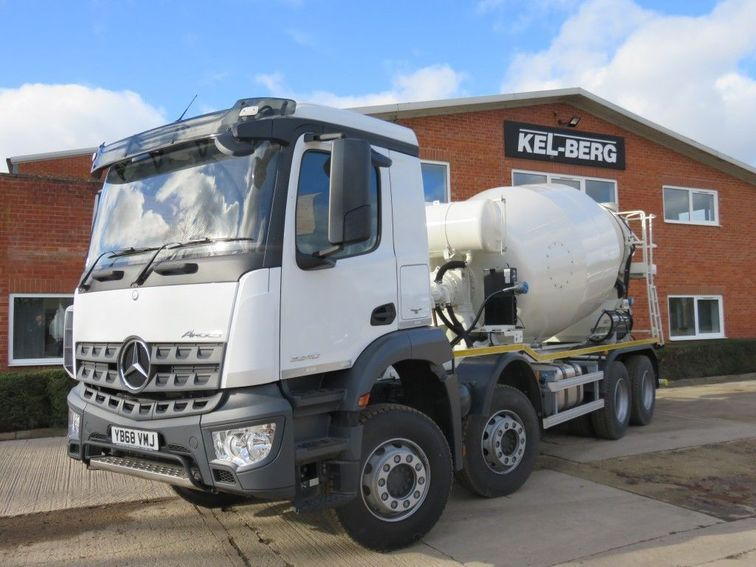Semi: (62, 95, 657, 551)
